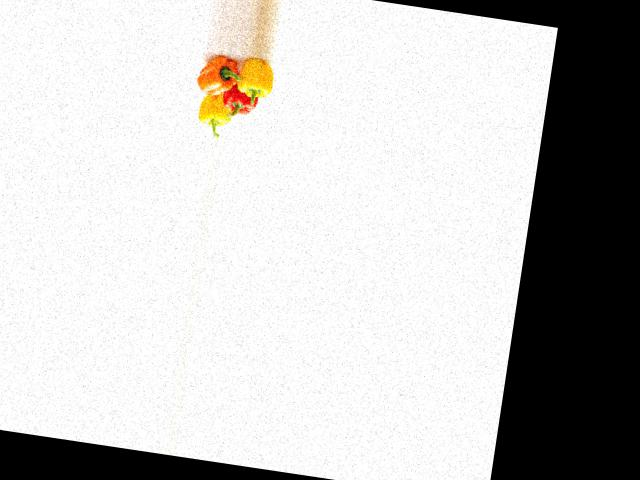bell_pepper: (225, 54, 277, 106)
